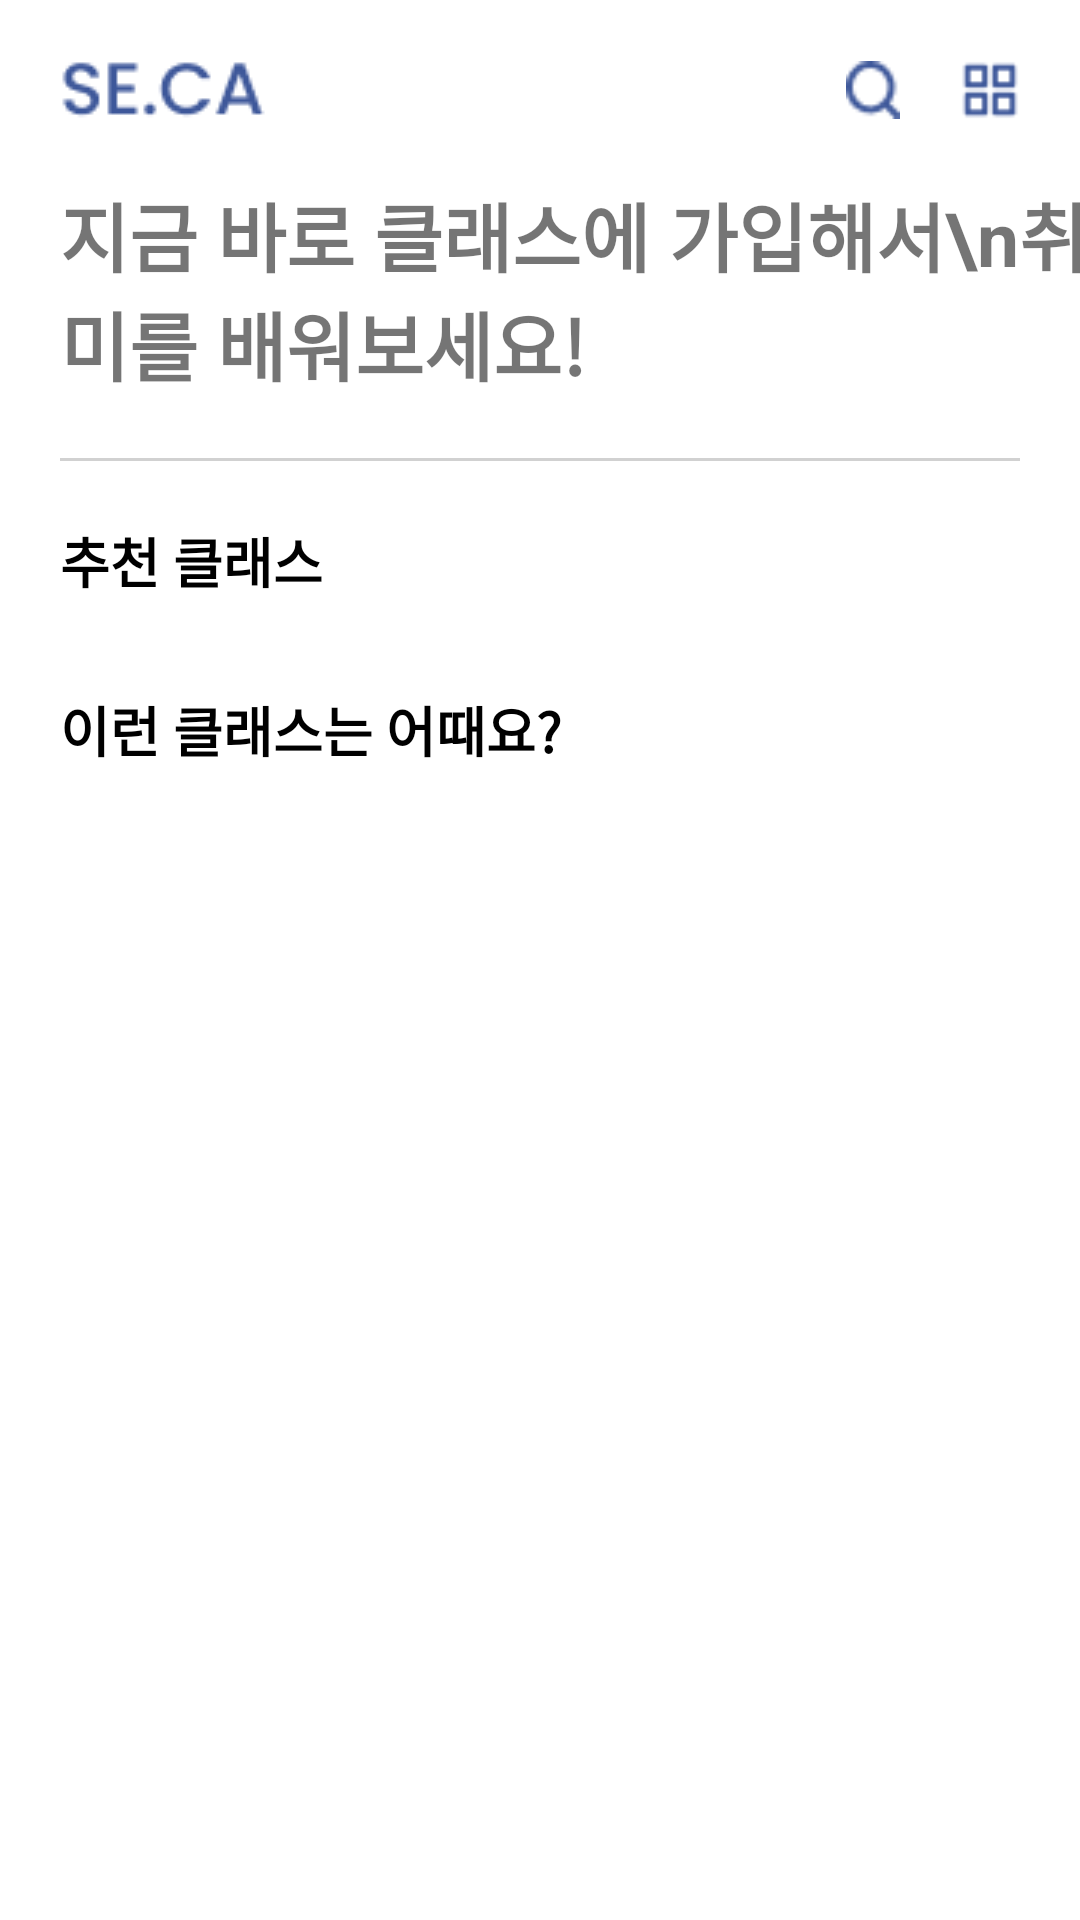

Icons on this 1080px x 1920px Android screen, each with the point to tap as (x,y):
category: (990,90)
search: (873,90)
